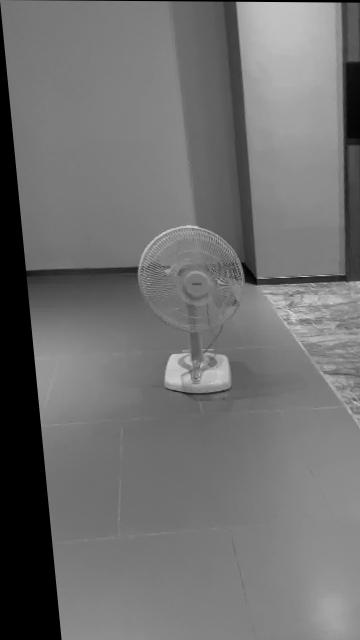Fan: (132, 226, 239, 395)
